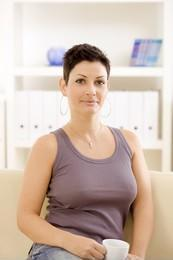face: (67, 65, 108, 115)
